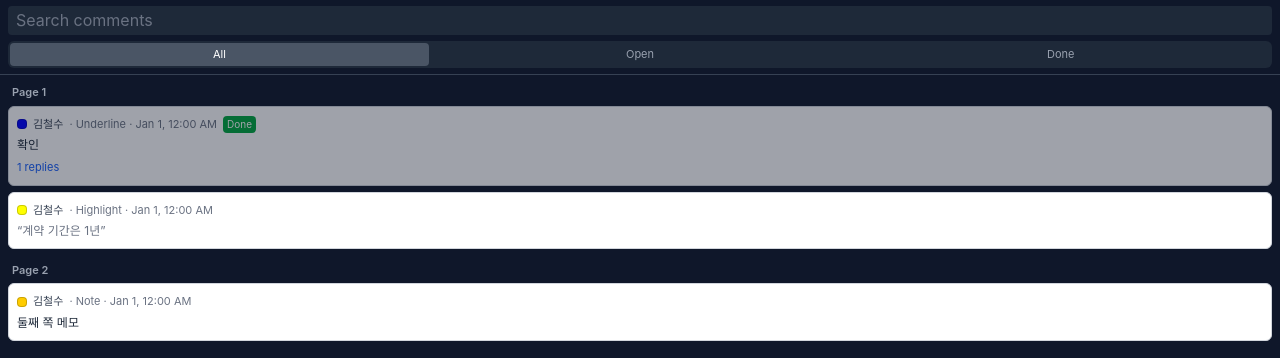
it: CommentsPanel › filters by status and search
The width and height of the screenshot is (1280, 358).
Click the radio button labelled "Done": coordinates (1061, 55) [851,43,1270,66]
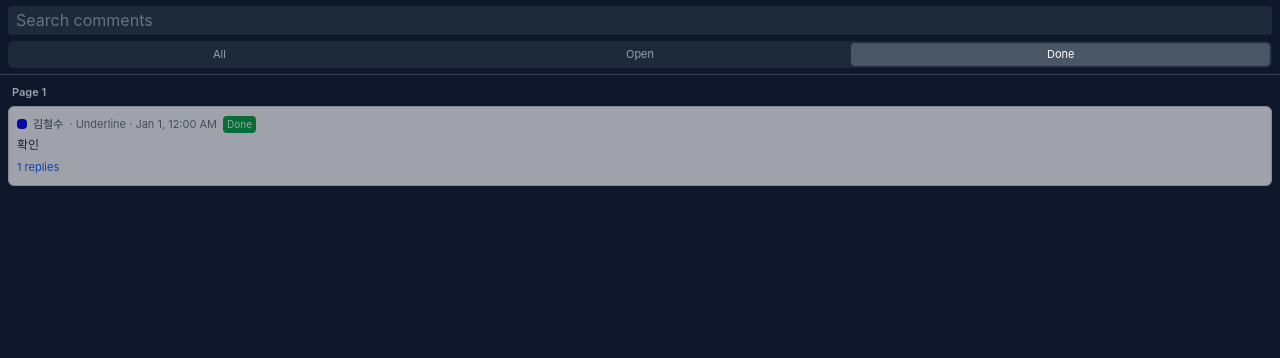
expect the text "확인" is shown: met, box [17,137,39,152]
expect the button "둘째 쪽 메모" is gone: met
Click the radio button labelled "All": coordinates (219, 55) [10,43,429,66]
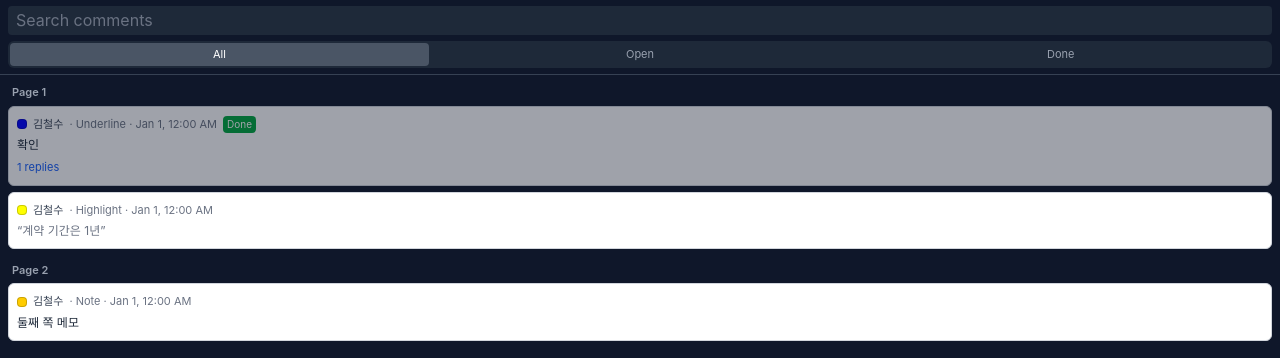
In the field with placeholder "Search comments": coordinates (640, 21) [8,6,1272,35], type "없는말"
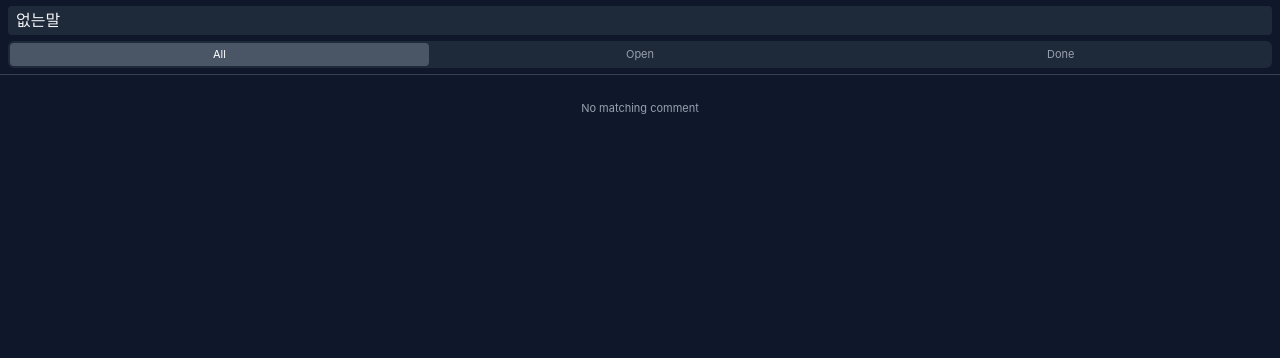
expect the text "No matching comment" is shown: met, box [581,101,699,115]
